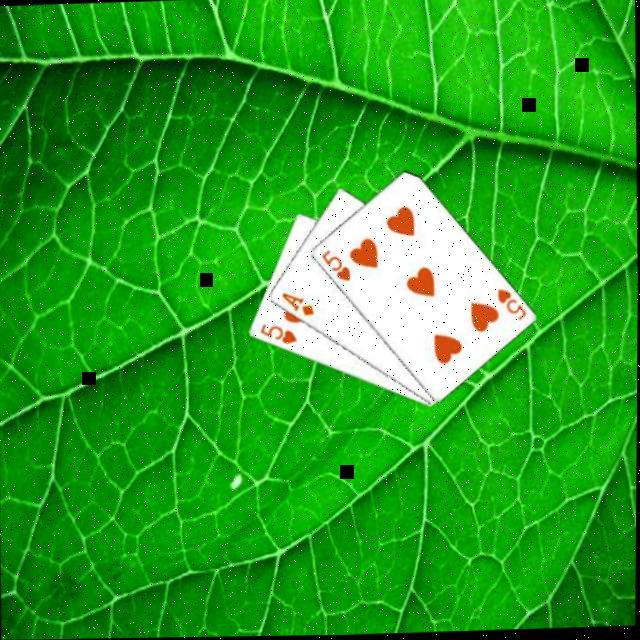5H: (317, 245, 352, 284), (493, 285, 528, 324), (256, 318, 298, 347)
AD: (277, 288, 316, 319)
